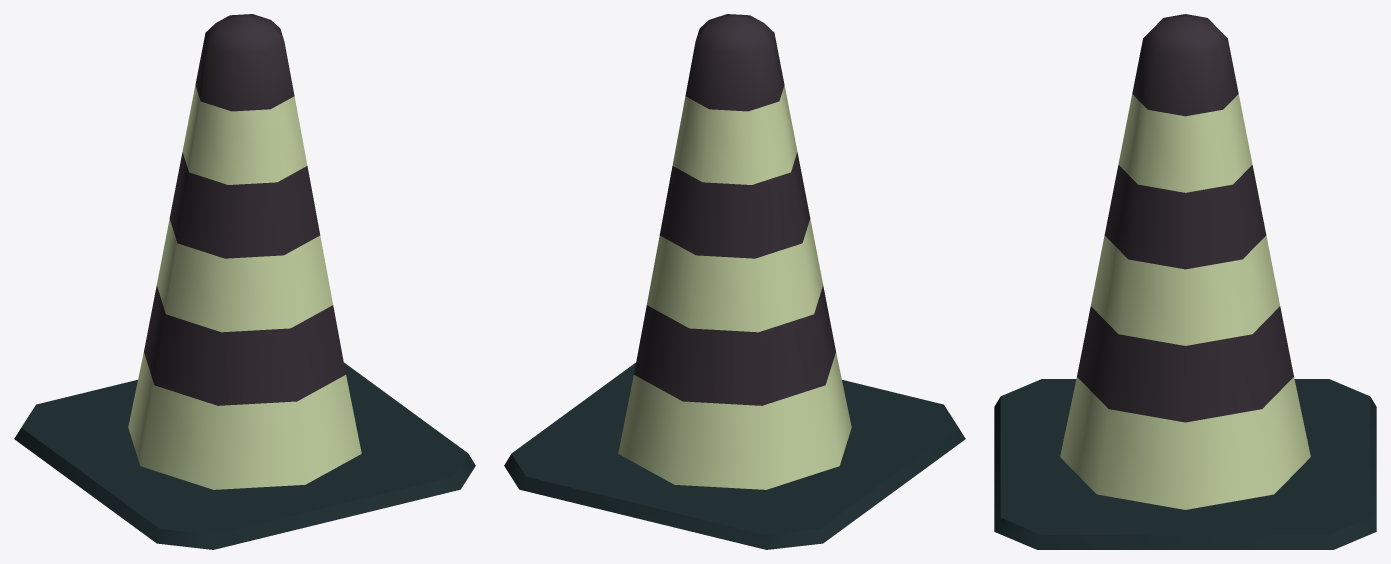
Rendered from CA_114_cone_var1.glb.
The picture shows the model from 3 angles, left to right: view 1: azimuth 30°, elevation 25°; view 2: azimuth 150°, elevation 25°; view 3: azimuth 270°, elevation 25°; orthographic projection. The views are drawn at different scales.
Parts seen in each view (by area): view 1: cone; view 2: cone; view 3: cone.
Part boxes in pixels (x1,y1,x2,y2): cone: [14, 14, 475, 549]; cone: [504, 14, 965, 549]; cone: [994, 14, 1376, 549].
Bounding box in the file's own units: 0.6245 × 0.8147 × 0.6245.
